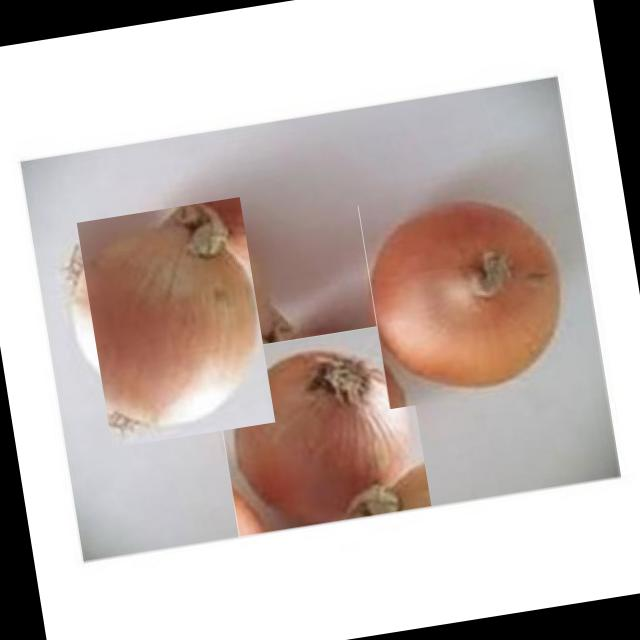Onion: (358, 174, 586, 409), (63, 210, 288, 435), (209, 322, 432, 537)
